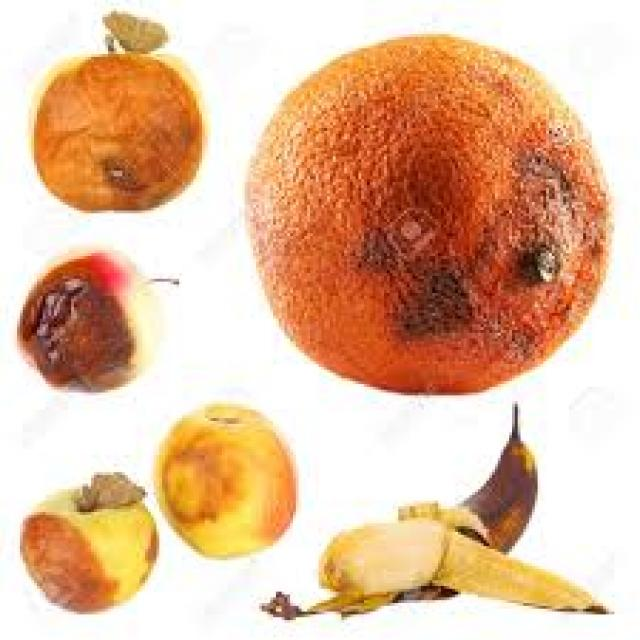organic waste: (245, 34, 614, 390), (262, 401, 534, 617), (28, 46, 205, 208), (17, 242, 176, 392), (154, 401, 293, 555), (20, 486, 156, 612), (430, 526, 614, 612), (100, 9, 165, 51), (77, 469, 145, 506)
